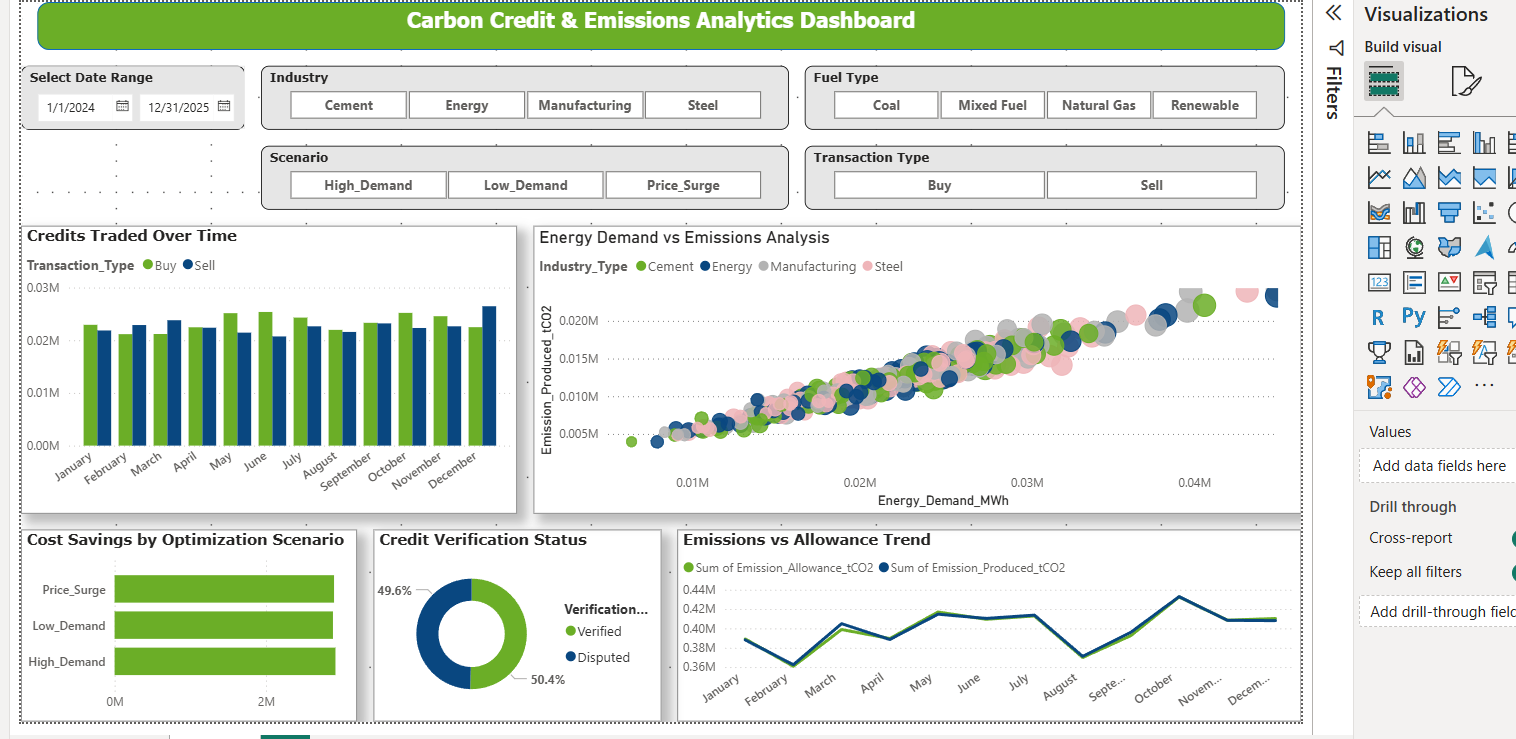

The page's visual inventory and layout, read from the dashboard file:
{"tool":"powerbi","page":{"name":"Page 1","canvas":[1280,720],"ordinal":0},"visuals":[{"type":"shape","box":[16,0,1248,48],"z":0},{"type":"textbox","box":[16,0,1248,48],"z":1000},{"type":"slicer","title":"Select Date Range","fields":{"Values":["Carbon_trading_dataset.Date"]},"box":[0,64,224,64],"z":2000},{"type":"slicer","title":"Industry","fields":{"Values":["Carbon_trading_dataset.Industry_Type"]},"box":[240,64,528,64],"z":3000},{"type":"slicer","title":"Scenario","fields":{"Values":["Carbon_trading_dataset.Optimization_Scenario"]},"box":[240,144,528,64],"z":4000},{"type":"slicer","title":"Fuel Type","fields":{"Values":["Carbon_trading_dataset.Fuel_Type"]},"box":[784,64,480,64],"z":5000},{"type":"slicer","title":"Transaction Type","fields":{"Values":["Carbon_trading_dataset.Transaction_Type"]},"box":[784,144,480,64],"z":6000},{"type":"clusteredColumnChart","title":"Credits Traded Over Time","fields":{"Category":["Carbon_trading_dataset.Date.Variation.Date Hierarchy.Month"],"Y":["Sum(Carbon_trading_dataset.Credits_Traded_tCO2)"],"Series":["Carbon_trading_dataset.Transaction_Type"]},"box":[0,224,496,288],"z":7000},{"type":"lineChart","title":"Emissions vs Allowance Trend","fields":{"Category":["Carbon_trading_dataset.Date.Variation.Date Hierarchy.Month"],"Y":["Sum(Carbon_trading_dataset.Emission_Allowance_tCO2)","Sum(Carbon_trading_dataset.Emission_Produced_tCO2)"]},"box":[656,528,624,192],"z":8000},{"type":"barChart","title":"Cost Savings by Optimization Scenario","fields":{"Category":["Carbon_trading_dataset.Optimization_Scenario"],"Y":["Sum(Carbon_trading_dataset.Carbon_Cost_Savings_USD)"]},"box":[0,528,336,192],"z":9000},{"type":"donutChart","title":"Credit Verification Status","fields":{"Category":["Carbon_trading_dataset.Verification_Status"],"Y":["Sum(Carbon_trading_dataset.Credits_Traded_tCO2)"]},"box":[352,528,288,192],"z":10000},{"type":"scatterChart","title":"Energy Demand vs Emissions Analysis","fields":{"X":["Sum(Carbon_trading_dataset.Energy_Demand_MWh)"],"Y":["Sum(Carbon_trading_dataset.Emission_Produced_tCO2)"],"Category":["Carbon_trading_dataset.Company_ID"],"Series":["Carbon_trading_dataset.Industry_Type"],"Size":["Sum(Carbon_trading_dataset.Credits_Traded_tCO2)"]},"box":[512,224,768,288],"z":11000}]}

Visuals, with their boxes in screenshot pixels (x1, y1, x2, y2):
shape: (28,0,1290,45)
textbox: (28,0,1290,45)
"Select Date Range" slicer: (12,61,238,125)
"Industry" slicer: (255,61,788,125)
"Scenario" slicer: (255,142,788,206)
"Fuel Type" slicer: (805,61,1290,125)
"Transaction Type" slicer: (805,142,1290,206)
"Credits Traded Over Time" clusteredColumnChart: (12,223,513,514)
"Emissions vs Allowance Trend" lineChart: (675,530,1306,724)
"Cost Savings by Optimization Scenario" barChart: (12,530,352,724)
"Credit Verification Status" donutChart: (368,530,659,724)
"Energy Demand vs Emissions Analysis" scatterChart: (530,223,1306,514)
